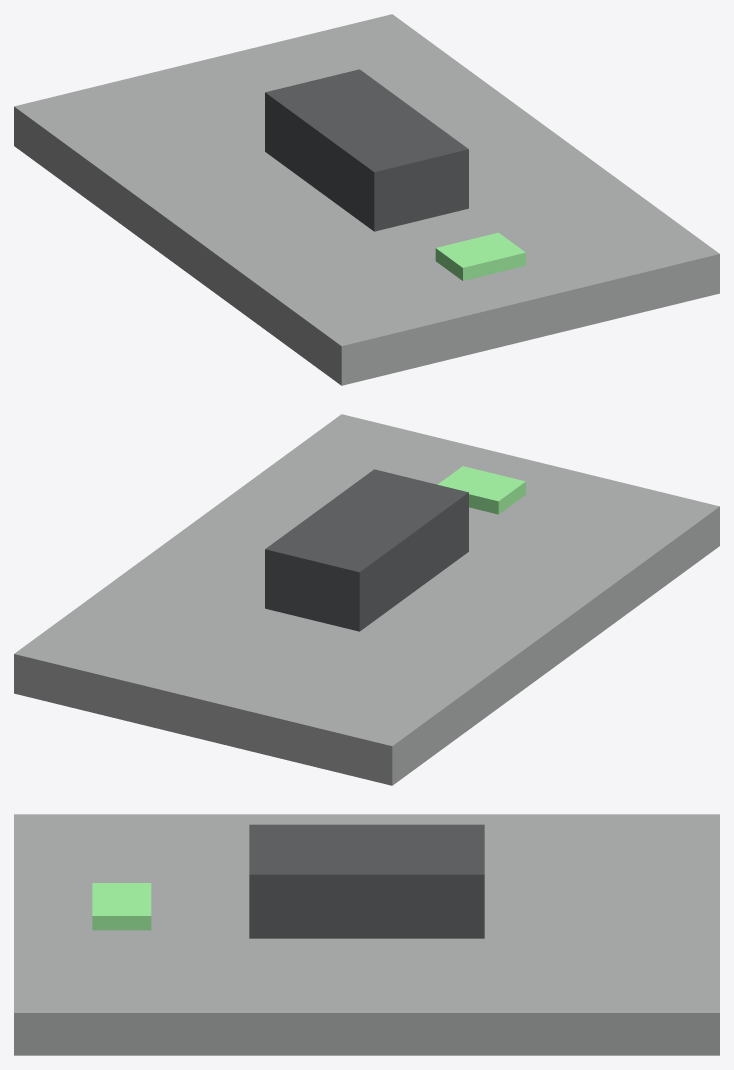
File: switchPlate_steel.glb
The picture shows the model from 3 angles, top to bottom: view 1: azimuth 30°, elevation 25°; view 2: azimuth 150°, elevation 25°; view 3: azimuth 270°, elevation 25°; orthographic projection. The views are drawn at different scales.
Visible parts, largest first — view 1: switchPlate_steel; view 2: switchPlate_steel; view 3: switchPlate_steel.
Part boxes in pixels (x1,y1,x2,y2): switchPlate_steel: (14, 14, 719, 385); switchPlate_steel: (14, 414, 719, 785); switchPlate_steel: (14, 814, 719, 1055).
Size of the model in its own units: 0.12 by 0.03 by 0.18.
